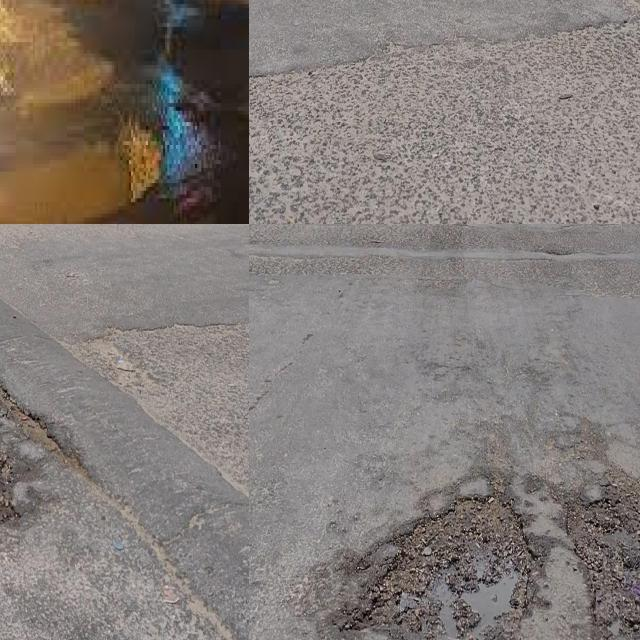Pothole: (349, 491, 530, 640), (564, 471, 640, 640), (0, 147, 134, 224), (118, 116, 161, 203)
